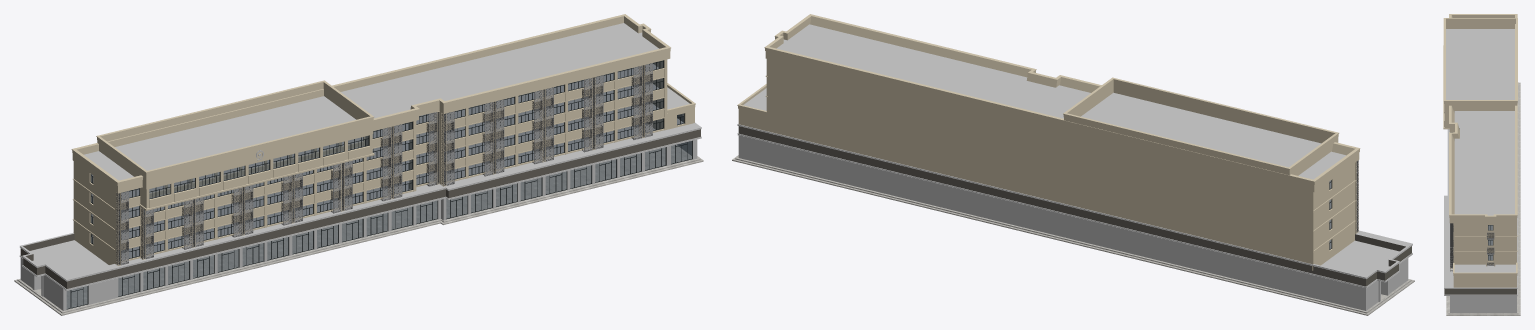
Rendered from nanjingxizhan.FBX.
3 renders of one model, left to right at view 1: azimuth 30°, elevation 25°; view 2: azimuth 150°, elevation 25°; view 3: azimuth 270°, elevation 25°, orthographic. The views are drawn at different scales.
Parts seen in each view (by area): view 1: nanjingxizhan; view 2: nanjingxizhan; view 3: nanjingxizhan.
Part boxes in pixels (x1,y1,x2,y2): nanjingxizhan: (14, 14, 703, 315); nanjingxizhan: (732, 14, 1414, 315); nanjingxizhan: (1443, 14, 1520, 315).
Size of the model in its own units: 93500 by 17600 by 13015.
